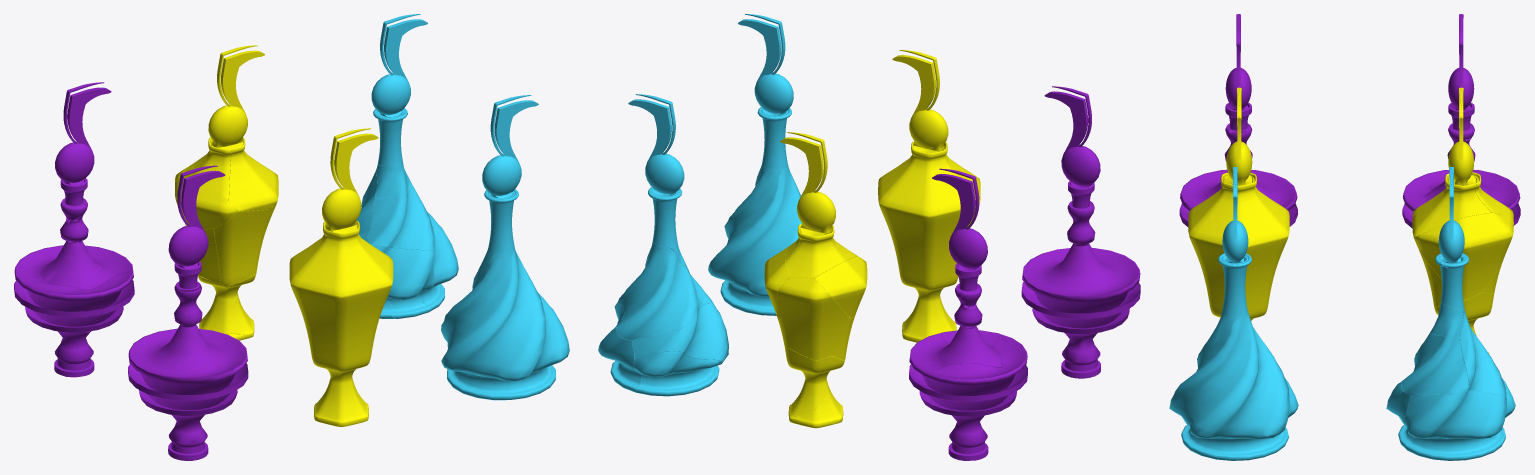
Rendered from POTION_Articulation.fbx.
3 views of the same model, side by side, from view 1: azimuth 30°, elevation 25°; view 2: azimuth 150°, elevation 25°; view 3: azimuth 270°, elevation 25° (orthographic). The views are drawn at different scales.
Visible parts, largest first — view 1: Potion_Legato_Corps, Potion_Staccato_Corps, Potions_Pizzicato_Corps, Potions_Articulation_01.004_cell.007, Potions_Articulation_01.006_cell.005, Potions_Articulation_01.001_cell.004, Potion_Staccato_Bouchon, Potions_Articulation_01.004_cell.002, Potion_Staccato_Cassee_Bouchon, Potion_Legato_Bouchon, Potions_Pizzicato_Bouchon, Potion_Legato_Cassee_Corps (+18 smaller); view 2: Potions_Pizzicato_Corps, Potion_Staccato_Corps, Potion_Legato_Corps, Potions_Articulation_01.004_cell.003, Potions_Articulation_01.001_cell.008, Potions_Articulation_01.006_cell, Potions_Articulation_01.004_cell.005, Potions_Articulation_01.004_cell.006, Potion_Staccato_Cassee_Bouchon, Potion_Staccato_Bouchon, Potion_Legato_Cassee_Corps, Potion_Legato_Bouchon (+15 smaller); view 3: Potion_Legato_Corps, Potion_Staccato_Corps, Potions_Articulation_01.004_cell, Potions_Articulation_01.001_cell.002, Potions_Pizzicato_Corps, Potions_Articulation_01.004_cell.007, Potions_Articulation_01.001_cell.007, Potions_Articulation_01.004_cell.003, Potion_Staccato_Bouchon, Potion_Staccato_Cassee_Bouchon, Potion_Legato_Bouchon, Potion_Legato_Cassee_Corps (+13 smaller).
Boxes of the visible parts, x1=… form: Potion_Legato_Corps: x1=441, y1=189, x2=569, y2=400; Potion_Staccato_Corps: x1=289, y1=221, x2=393, y2=427; Potions_Pizzicato_Corps: x1=128, y1=261, x2=248, y2=460; Potions_Articulation_01.004_cell.007: x1=367, y1=182, x2=435, y2=251; Potions_Articulation_01.006_cell.005: x1=19, y1=281, x2=102, y2=333; Potions_Articulation_01.001_cell.004: x1=213, y1=209, x2=270, y2=286; Potion_Staccato_Bouchon: x1=322, y1=128, x2=378, y2=233; Potions_Articulation_01.004_cell.002: x1=374, y1=246, x2=435, y2=318; Potion_Staccato_Cassee_Bouchon: x1=208, y1=45, x2=264, y2=158; Potion_Legato_Bouchon: x1=482, y1=95, x2=538, y2=198; Potions_Pizzicato_Bouchon: x1=168, y1=165, x2=225, y2=268; Potion_Legato_Cassee_Corps: x1=371, y1=14, x2=427, y2=116; Potions_Pizzicato_Corps: x1=1021, y1=181, x2=1140, y2=378; Potion_Staccato_Corps: x1=878, y1=141, x2=980, y2=342; Potion_Legato_Corps: x1=708, y1=107, x2=801, y2=315; Potions_Articulation_01.004_cell.003: x1=616, y1=245, x2=702, y2=340; Potions_Articulation_01.001_cell.008: x1=777, y1=277, x2=850, y2=360; Potions_Articulation_01.006_cell: x1=917, y1=363, x2=1017, y2=417; Potions_Articulation_01.004_cell.005: x1=631, y1=302, x2=728, y2=369; Potions_Articulation_01.004_cell.006: x1=633, y1=351, x2=722, y2=396; Potion_Staccato_Cassee_Bouchon: x1=780, y1=132, x2=835, y2=236; Potion_Staccato_Bouchon: x1=892, y1=50, x2=948, y2=153; Potion_Legato_Cassee_Corps: x1=628, y1=94, x2=684, y2=210; Potion_Legato_Bouchon: x1=738, y1=14, x2=793, y2=115; Potion_Legato_Corps: x1=1169, y1=253, x2=1298, y2=460; Potion_Staccato_Corps: x1=1188, y1=172, x2=1289, y2=320; Potions_Articulation_01.004_cell: x1=1402, y1=390, x2=1506, y2=460; Potions_Articulation_01.001_cell.002: x1=1414, y1=212, x2=1513, y2=300; Potions_Pizzicato_Corps: x1=1179, y1=102, x2=1297, y2=226; Potions_Articulation_01.004_cell.007: x1=1401, y1=333, x2=1468, y2=395; Potions_Articulation_01.001_cell.007: x1=1412, y1=176, x2=1491, y2=237; Potions_Articulation_01.004_cell.003: x1=1460, y1=308, x2=1506, y2=395; Potion_Staccato_Bouchon: x1=1225, y1=87, x2=1252, y2=185; Potion_Staccato_Cassee_Bouchon: x1=1448, y1=87, x2=1476, y2=185; Potion_Legato_Bouchon: x1=1222, y1=167, x2=1248, y2=263; Potion_Legato_Cassee_Corps: x1=1438, y1=167, x2=1464, y2=273.
Size of the model in its own units: 493 by 317 by 366.
